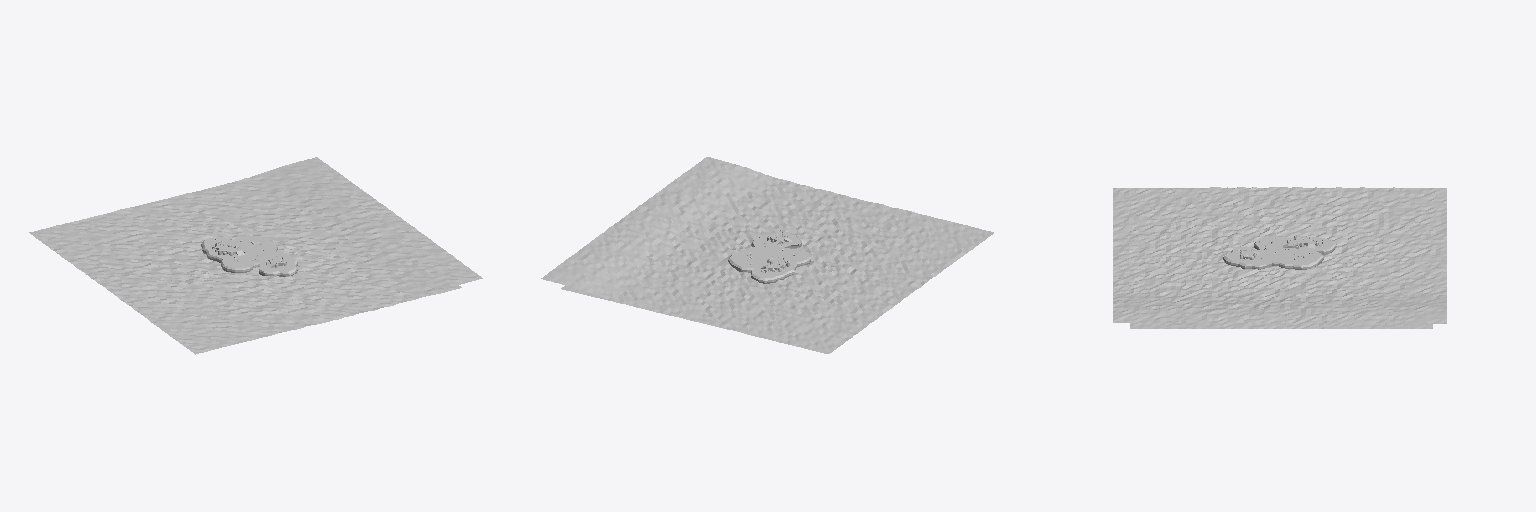
File: islandnewsea.obj
The picture shows the model from 3 angles: view 1: azimuth 30°, elevation 25°; view 2: azimuth 150°, elevation 25°; view 3: azimuth 270°, elevation 25°; orthographic projection.
Visible parts, largest first — view 1: Sea_Plane.001, Island_Cube; view 2: Sea_Plane.001, Island_Cube; view 3: Sea_Plane.001, Island_Cube, Ground_Plane.002.
Boxes of the visible parts, <box> form: Sea_Plane.001: <box>29,157,482,354</box>; Island_Cube: <box>201,236,297,276</box>; Sea_Plane.001: <box>541,157,993,353</box>; Island_Cube: <box>728,232,810,283</box>; Sea_Plane.001: <box>1113,187,1446,323</box>; Island_Cube: <box>1223,236,1336,269</box>; Ground_Plane.002: <box>1130,322,1432,328</box>.
Bounding box in the file's own units: 511 × 31.65 × 511.